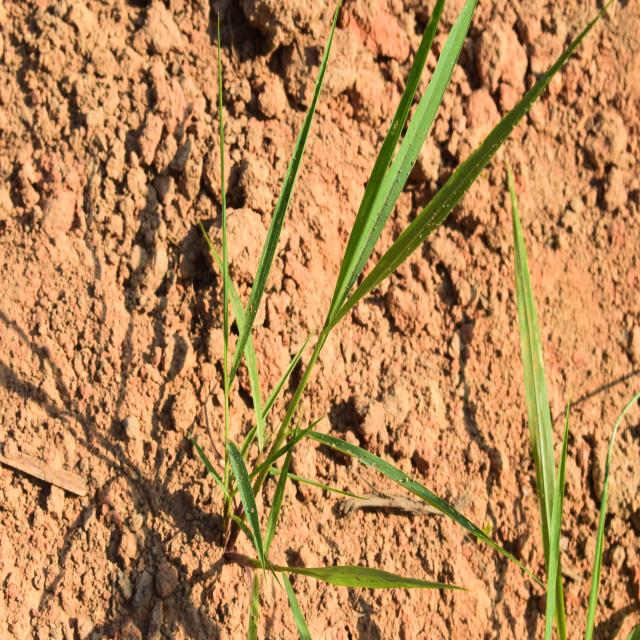green_foxtail: (207, 15, 559, 582)
